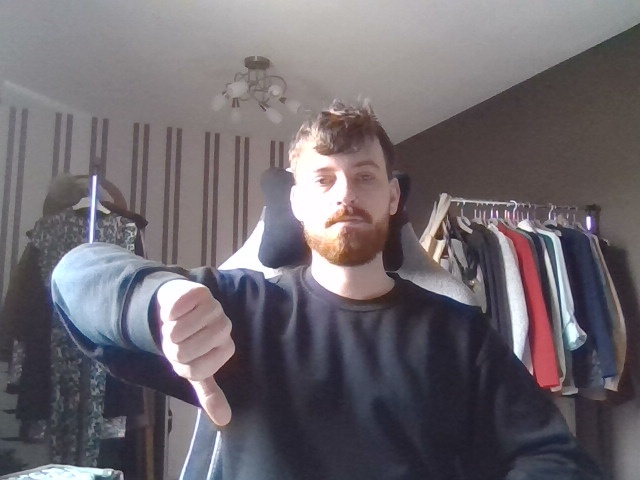Thumbs Down: (146, 259, 260, 438)
